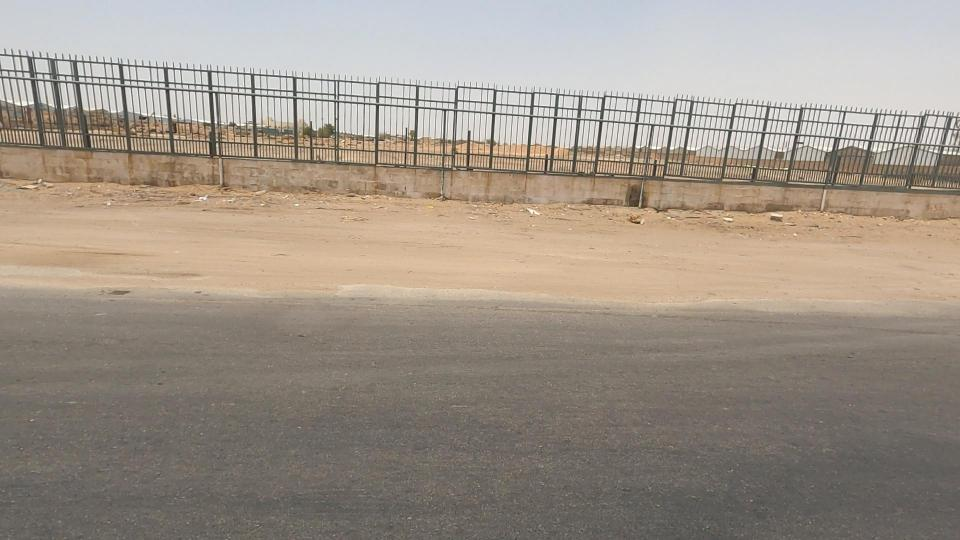GARBAGE: (582, 188, 691, 257), (160, 166, 261, 225), (734, 185, 825, 247), (492, 183, 561, 235), (1, 167, 85, 207), (84, 185, 134, 222)
